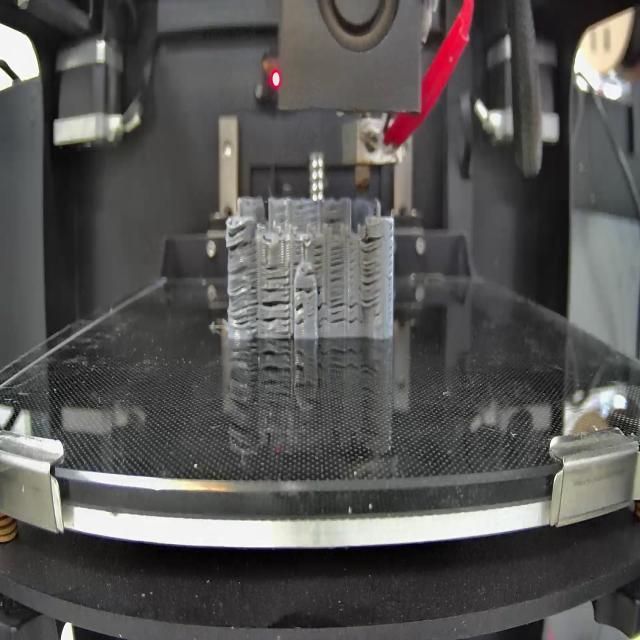cracks: (225, 264, 261, 335), (358, 234, 386, 318), (263, 264, 291, 332), (293, 283, 328, 332), (330, 246, 346, 322), (226, 222, 255, 252), (387, 222, 394, 330), (292, 257, 325, 279), (323, 206, 347, 225), (347, 300, 361, 328), (294, 202, 317, 210), (313, 243, 326, 257), (262, 236, 273, 245)
